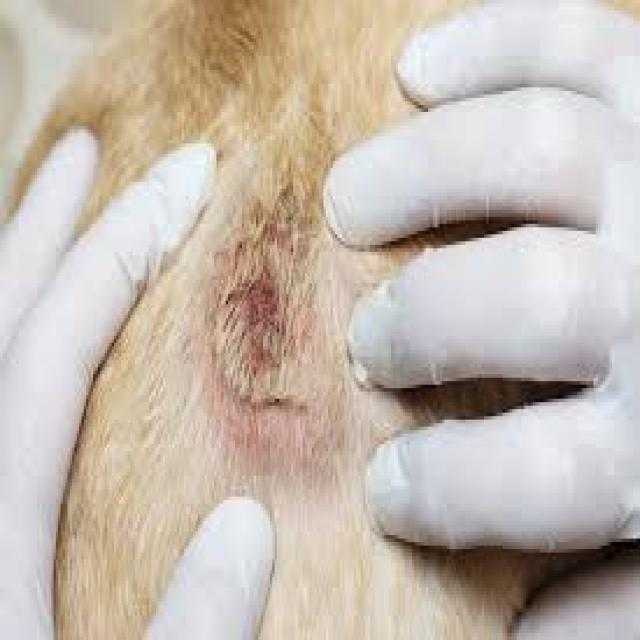kene: (201, 213, 325, 422)
